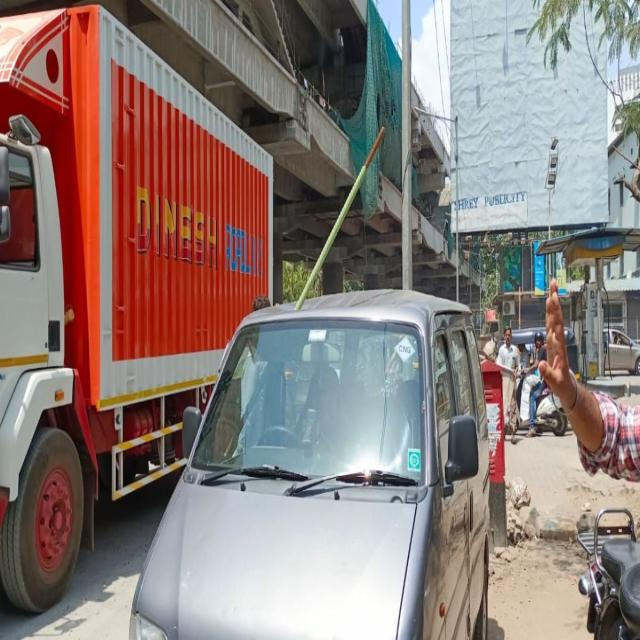car: (130, 291, 490, 638), (604, 327, 640, 374)
truck: (0, 7, 274, 603)
